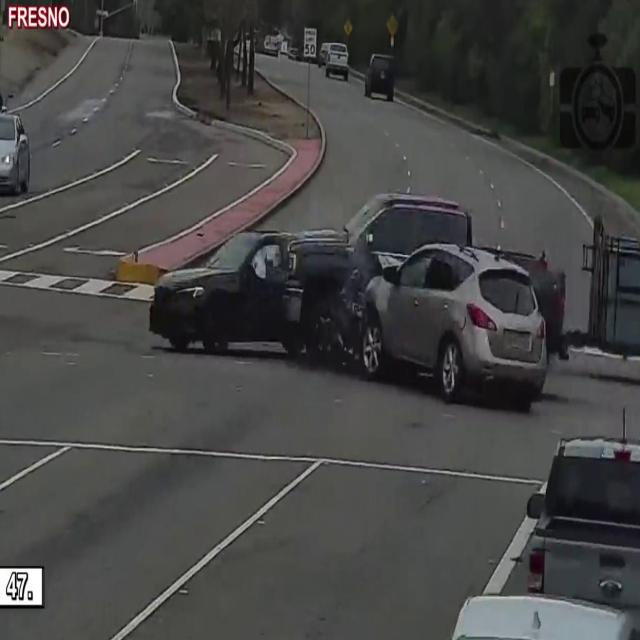accident: (137, 193, 555, 419)
